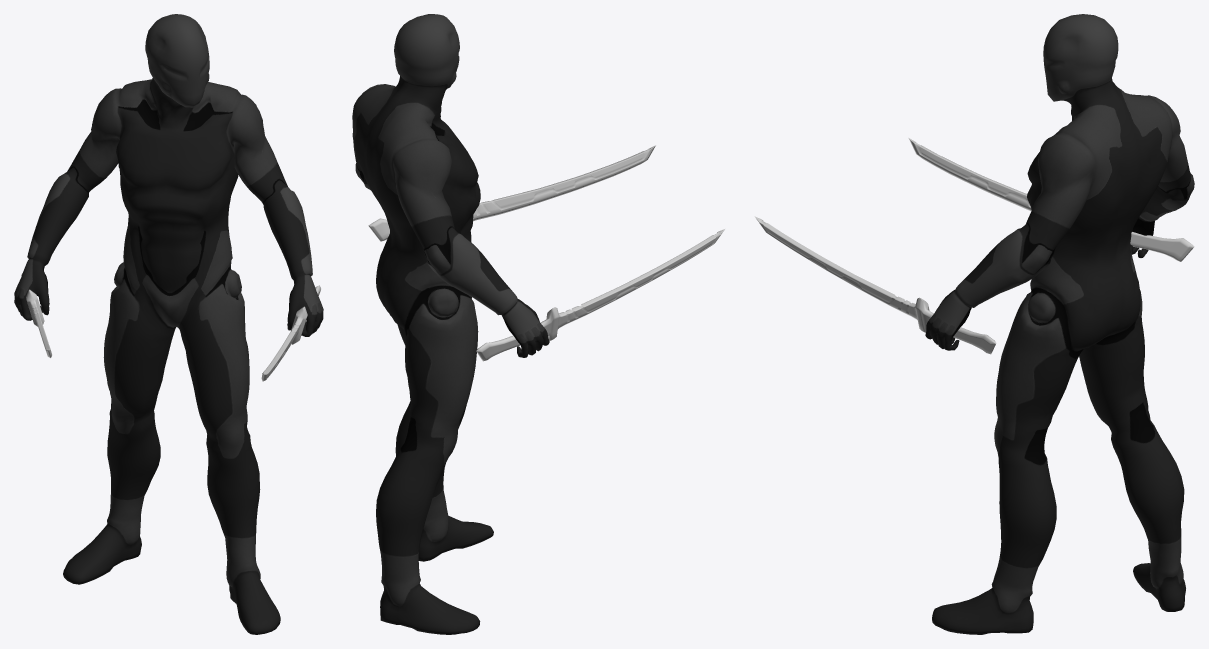
3 views of the same model, side by side, from view 1: azimuth 30°, elevation 25°; view 2: azimuth 150°, elevation 25°; view 3: azimuth 270°, elevation 25° (orthographic). The views are drawn at different scales.
Parts seen in each view (by area): view 1: Cyborg_Ninja_Killer, Sword_l, Sword_l001; view 2: Cyborg_Ninja_Killer, Sword_l001, Sword_l; view 3: Cyborg_Ninja_Killer, Sword_l, Sword_l001.
Part boxes in pixels (x1,y1,x2,y2): Cyborg_Ninja_Killer: (14,14,323,634); Sword_l: (261,285,320,381); Sword_l001: (21,273,51,357); Cyborg_Ninja_Killer: (352,14,549,634); Sword_l001: (476,229,724,361); Sword_l: (368,145,655,241); Cyborg_Ninja_Killer: (925,14,1194,634); Sword_l: (754,216,996,354); Sword_l001: (908,138,1194,261).
Bounding box in the file's own units: 105 × 182 × 122.
